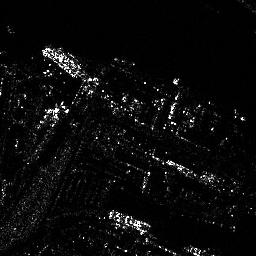ship: (43, 44, 85, 77), (109, 208, 151, 234)
